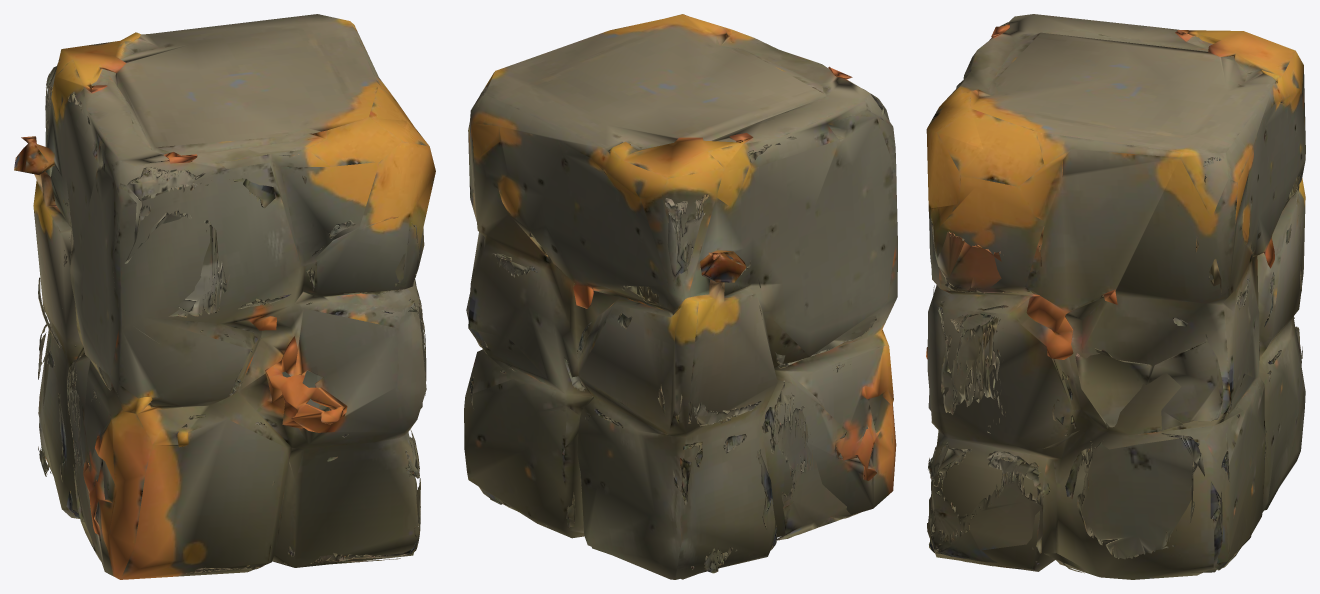
3 views of the same model, side by side, from view 1: azimuth 30°, elevation 25°; view 2: azimuth 150°, elevation 25°; view 3: azimuth 270°, elevation 25° (orthographic). The views are drawn at different scales.
Parts seen in each view (by area): view 1: world; view 2: world; view 3: world.
Boxes of the visible parts, left/top/right/bottom form: world: left=14, top=14, right=435, bottom=579; world: left=464, top=14, right=897, bottom=579; world: left=926, top=14, right=1305, bottom=579.
Size of the model in its own units: 0.81 by 0.998 by 0.7841.
Materials: 1 (1 with a texture image).
